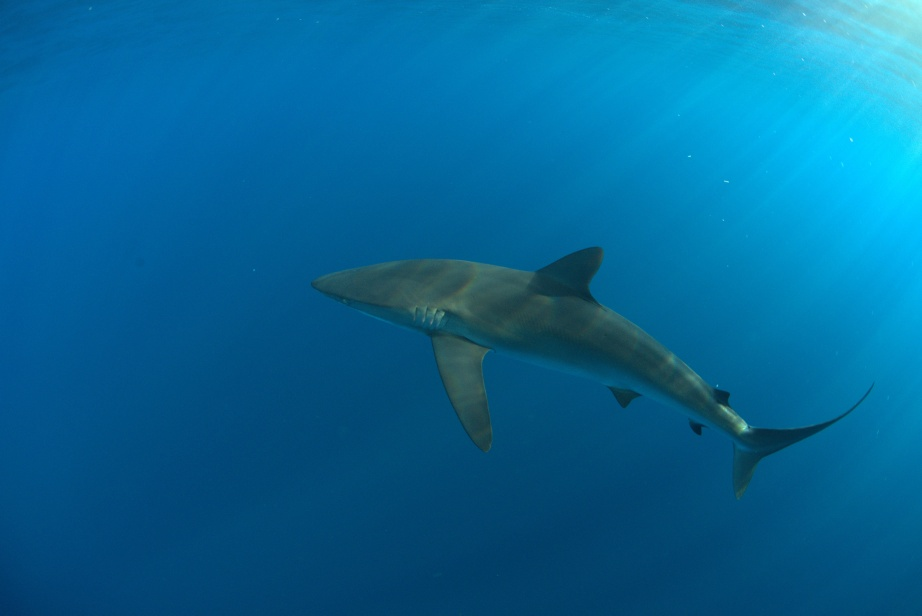Sedoso: (233, 219, 878, 521)
